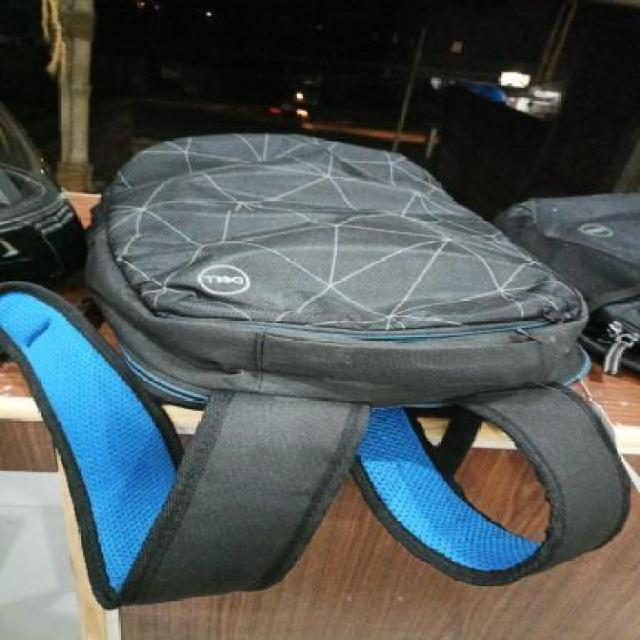backpack: (0, 126, 634, 614)
